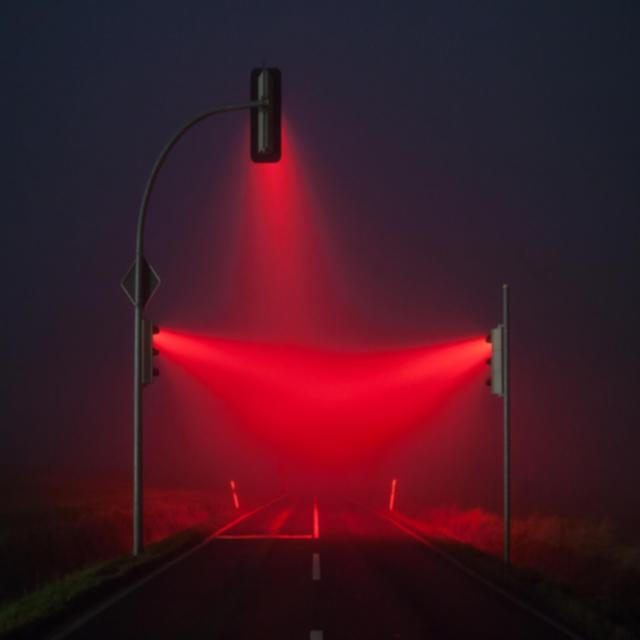pole: (131, 216, 148, 554), (500, 288, 514, 560)
